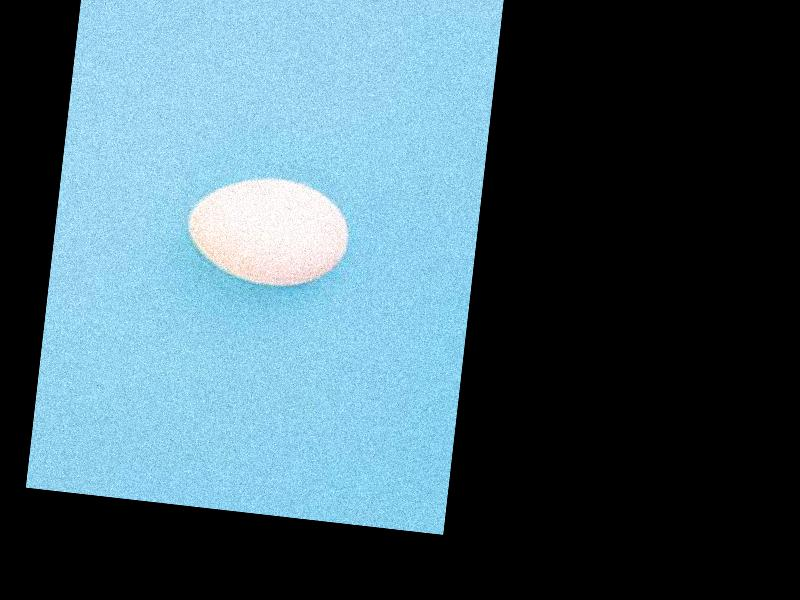Eggs: (179, 171, 353, 294)
